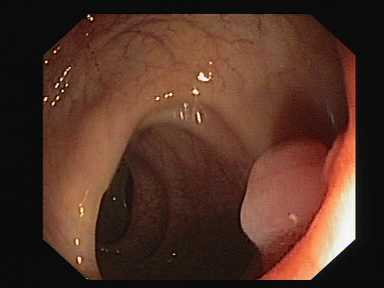polyp: (197, 129, 342, 259)
